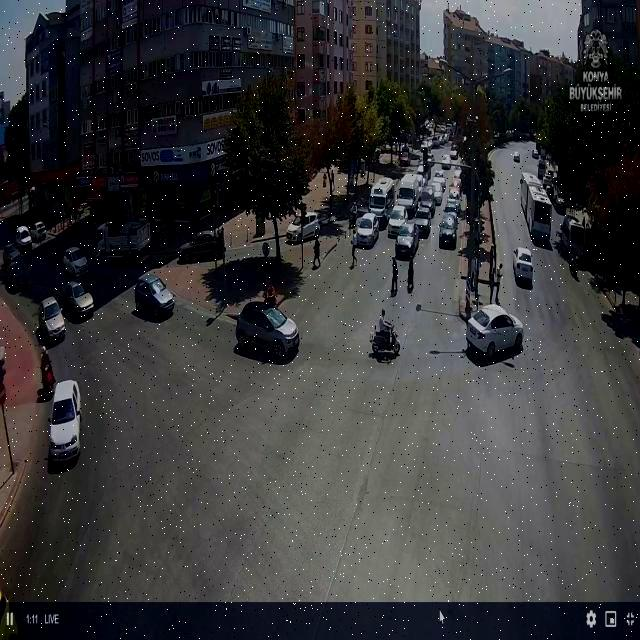Car: (235, 301, 301, 359), (466, 304, 525, 357), (47, 378, 82, 464), (134, 273, 175, 317), (178, 230, 225, 263), (62, 280, 94, 320), (37, 298, 65, 342), (286, 212, 321, 243), (353, 213, 379, 247), (394, 223, 420, 257), (62, 246, 90, 277), (512, 246, 534, 285), (386, 206, 409, 239), (438, 213, 459, 247), (411, 209, 432, 239), (417, 187, 436, 216), (428, 182, 445, 207), (15, 226, 32, 250), (444, 194, 460, 216), (542, 172, 556, 190), (417, 162, 431, 175), (440, 154, 450, 168), (452, 168, 462, 180), (434, 168, 445, 178)
Cycle: (370, 306, 401, 354)
Truck: (93, 215, 151, 264), (369, 178, 396, 222)
Van: (559, 216, 587, 261)
